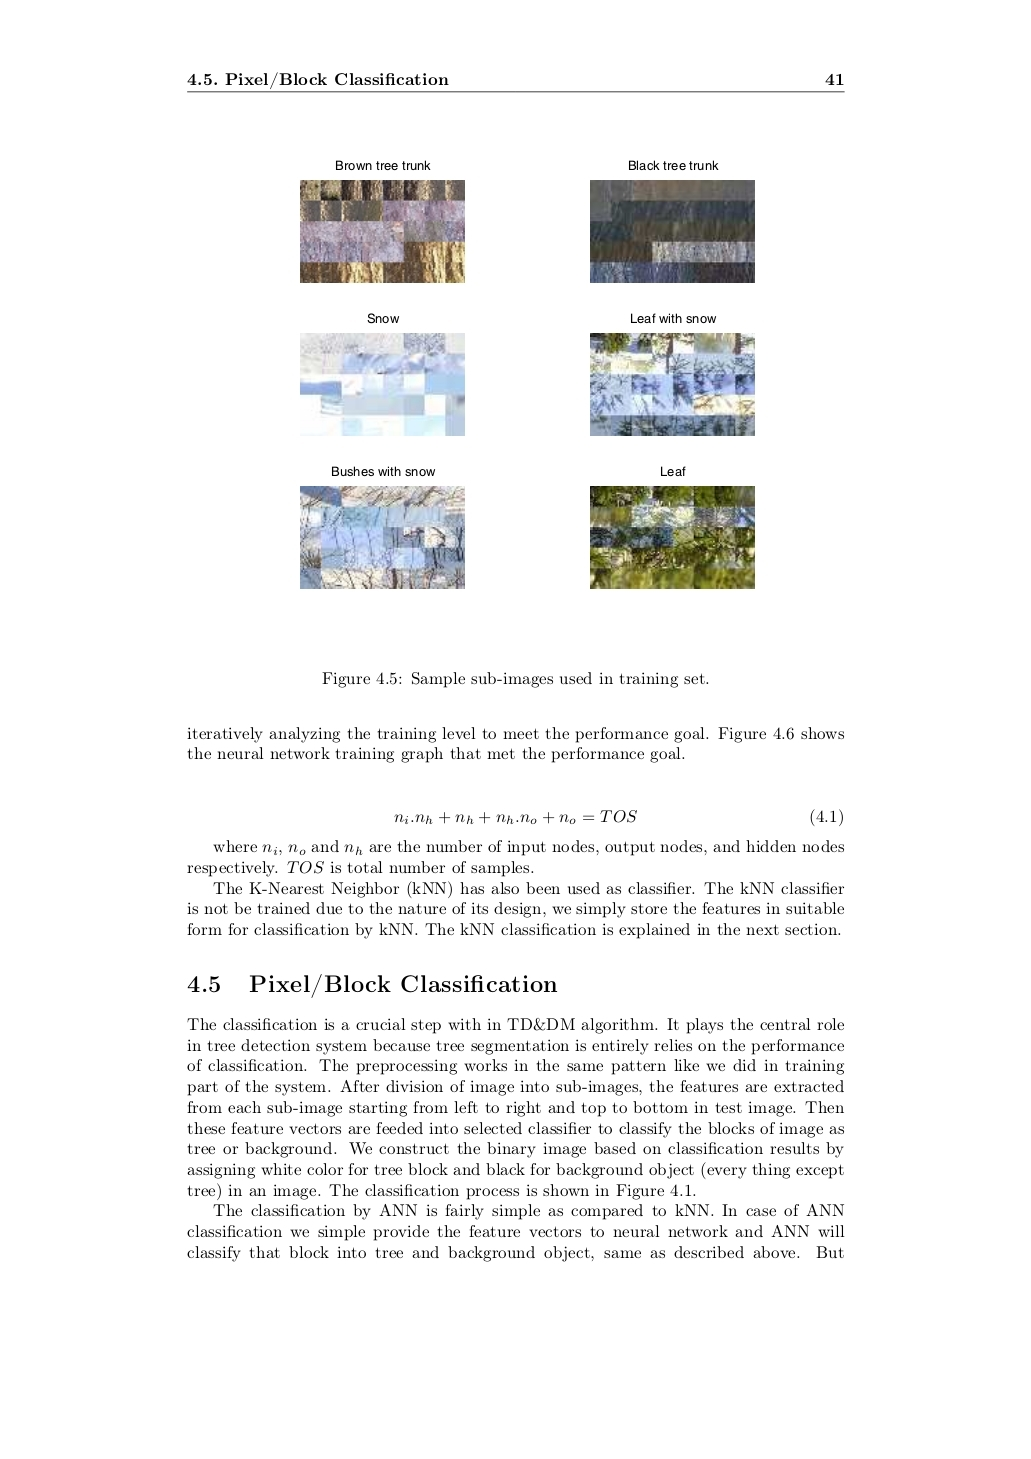figure: (300, 178, 465, 283), (589, 485, 755, 589), (590, 178, 754, 283), (300, 332, 464, 436), (300, 485, 464, 589), (590, 332, 754, 436)
formula: (394, 808, 842, 827)
